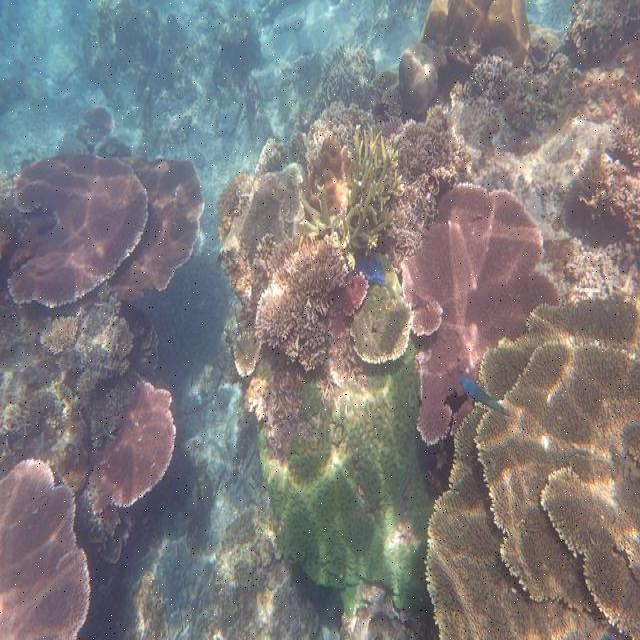aquatic plants: (295, 122, 409, 252)
reefs: (425, 296, 639, 639), (400, 184, 559, 449), (4, 152, 148, 308), (0, 459, 91, 639), (250, 234, 349, 369), (109, 157, 201, 302), (87, 380, 175, 515), (351, 282, 411, 361), (343, 274, 368, 319)
